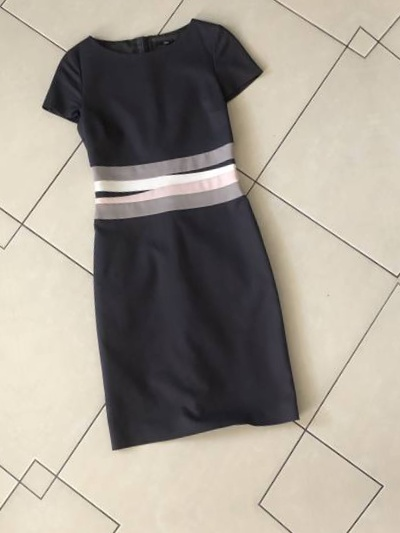Dress: (20, 0, 347, 479)
